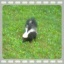skunk: (22, 18, 37, 42)
